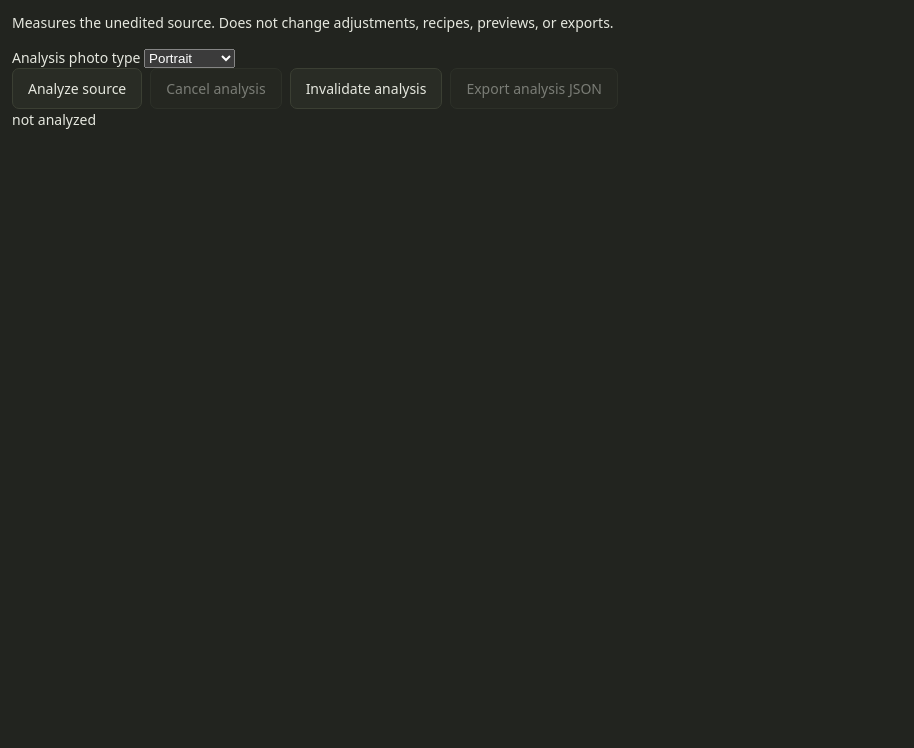
Test: selects all photo types and reuses saved analysis
Expected: the button "Analyze source" is enabled, [12, 68, 142, 109]
Select "Landscape" in the dropdown labelled "Analysis photo type": x=190, y=58 [144, 49, 235, 68]
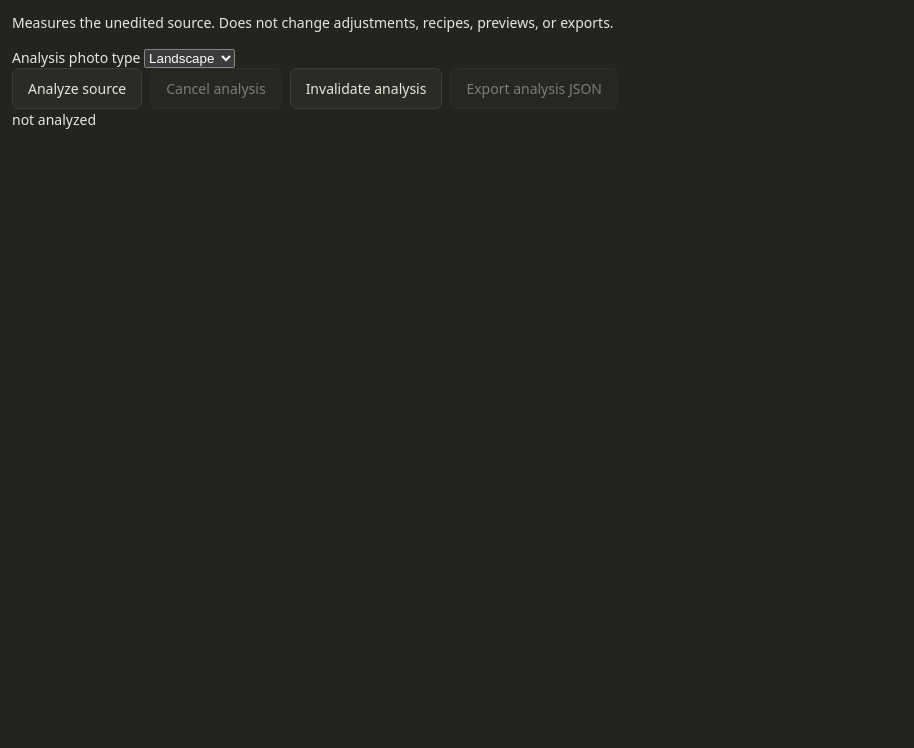
Expected: the button "Analyze source" is enabled, [12, 68, 142, 109]
Select "Real Estate" in the dropdown labelled "Analysis photo type": x=190, y=58 [144, 49, 235, 68]
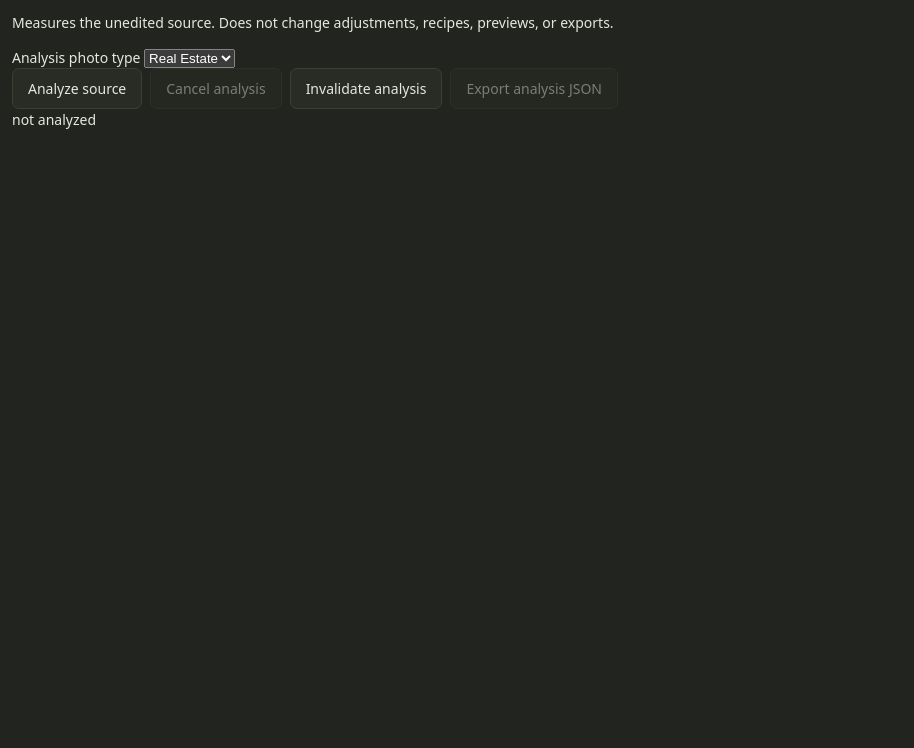
Click the button "Analyze source": x=77, y=88 [12, 68, 142, 109]
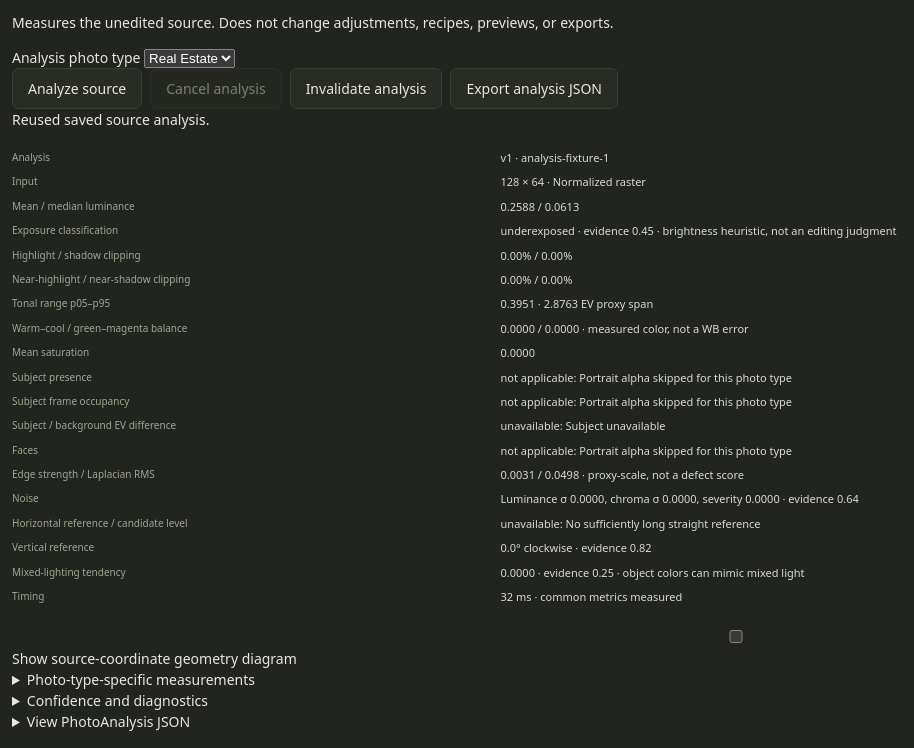
Result: the text "Reused saved source analysis." is shown at [12, 110, 209, 129]
